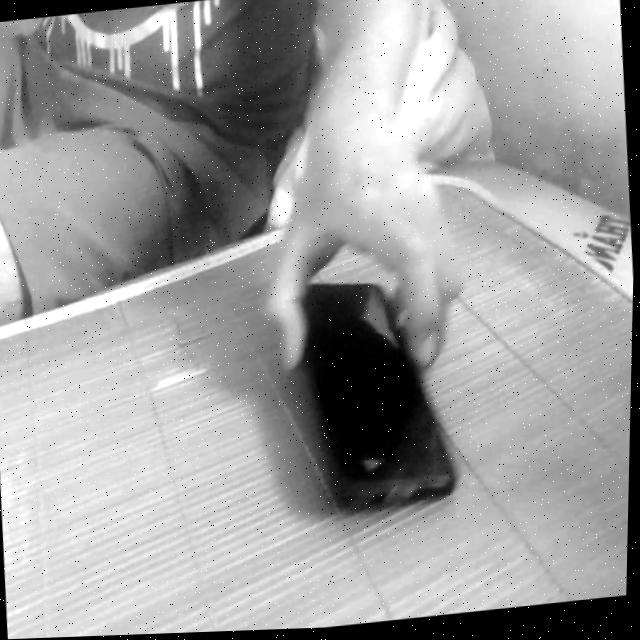phone: (267, 235, 482, 541)
